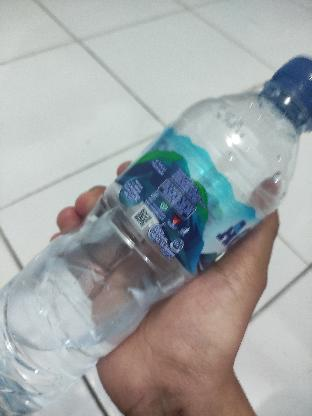Plastic Bottle: (3, 46, 312, 415)
